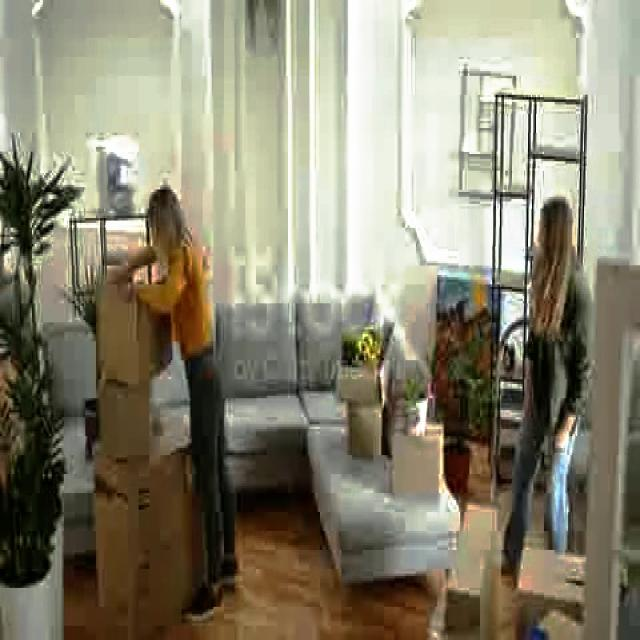Box: (96, 464, 190, 640), (448, 500, 507, 638), (100, 280, 175, 379), (99, 382, 154, 458), (520, 554, 585, 618), (339, 365, 385, 450), (387, 434, 437, 500)
